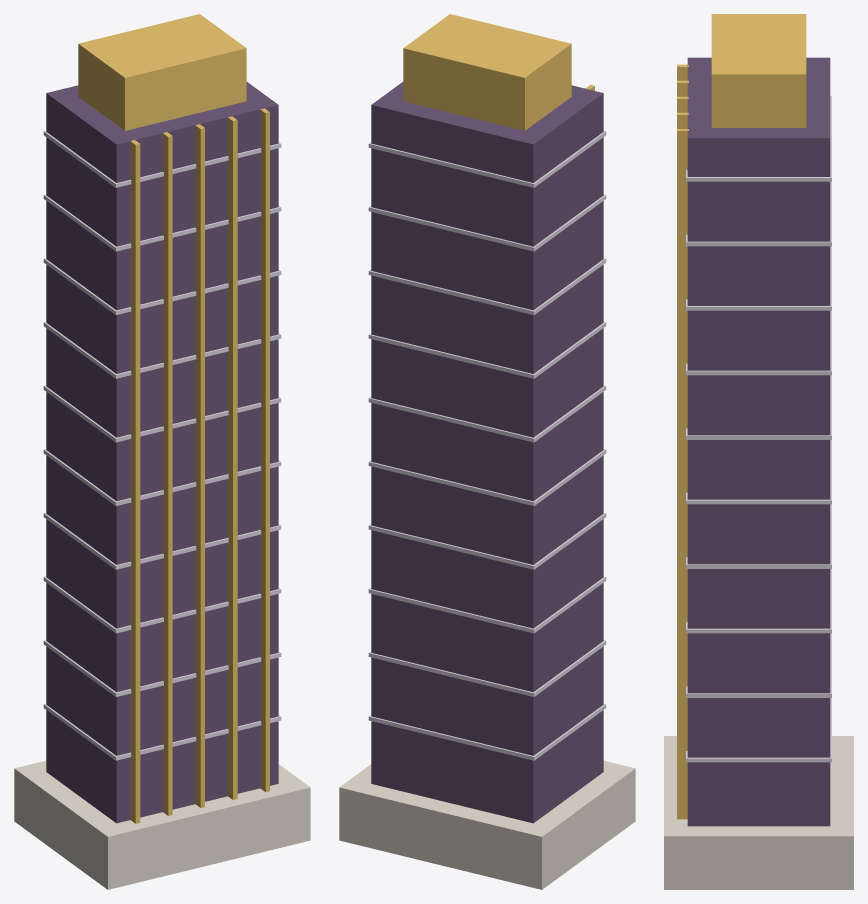
The model's file is delta-energy.glb.
The picture shows the model from 3 angles, left to right: view 1: azimuth 30°, elevation 25°; view 2: azimuth 150°, elevation 25°; view 3: azimuth 270°, elevation 25°; orthographic projection.
Visible parts, largest first — view 1: delta-energy_Building; view 2: delta-energy_Building; view 3: delta-energy_Building.
Boxes of the visible parts, <box> form: delta-energy_Building: <box>14,14,310,889</box>; delta-energy_Building: <box>339,14,635,889</box>; delta-energy_Building: <box>664,14,853,889</box>.
Bounding box in the file's own units: 10 × 37 × 8.
